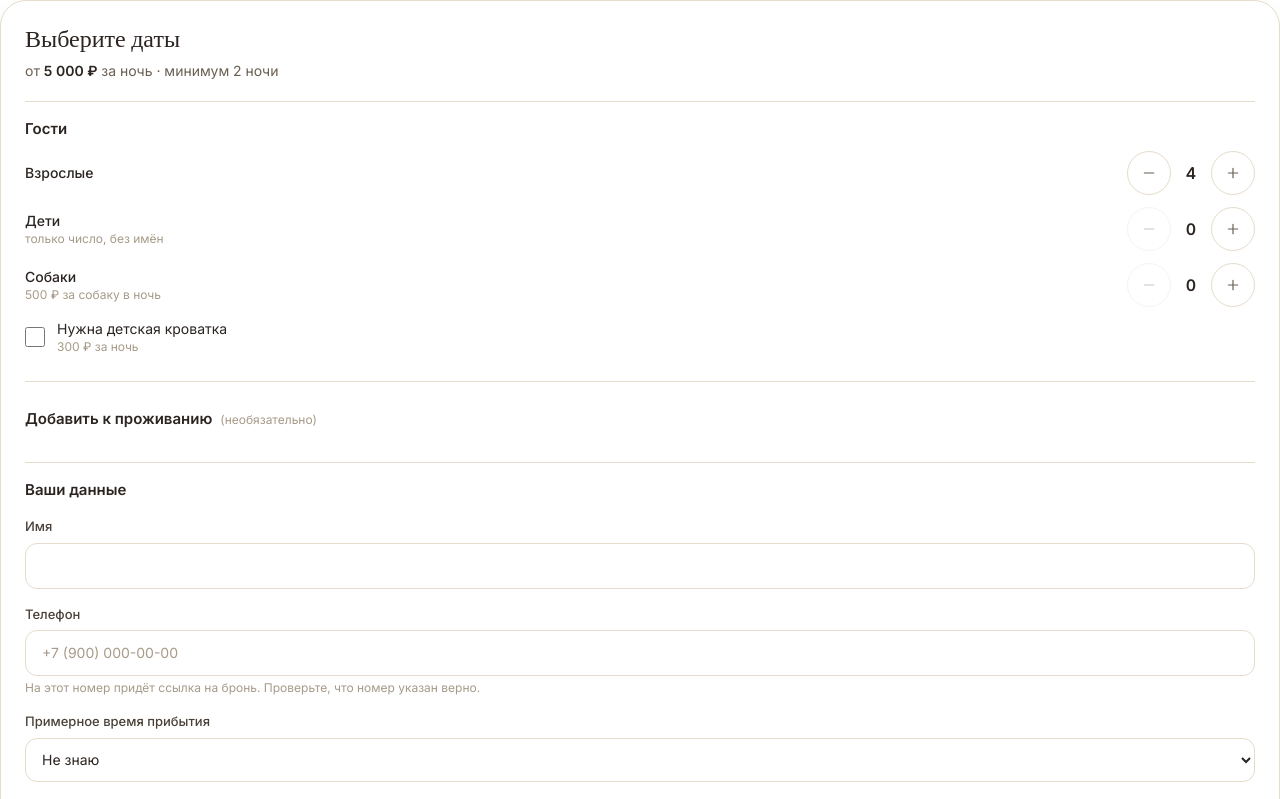
Test case: BookingPanel › with extra beds enabled the steppers go up to capacity + beds and the price note says so
What coordinates should you click on to do the following:
click the button named "Взрослые: больше"
I would click on:
 (1233, 172)
Its box is [1211,150,1255,194].
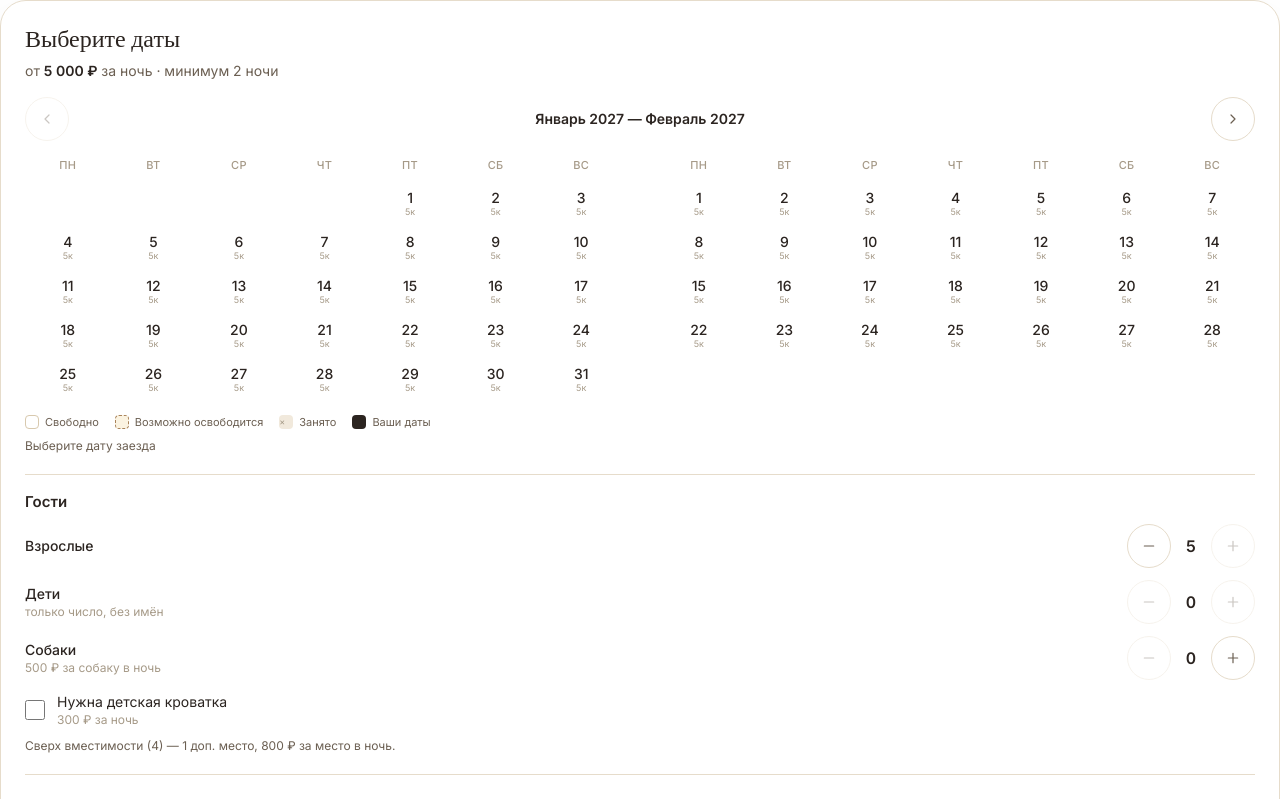
expect the button named "Взрослые: больше" is disabled: met, box [1211,524,1255,568]
expect the text "Сверх вместимости (4) — 1 доп. место, 800 ₽ за место в ночь." is shown: met, box [25,738,395,752]
